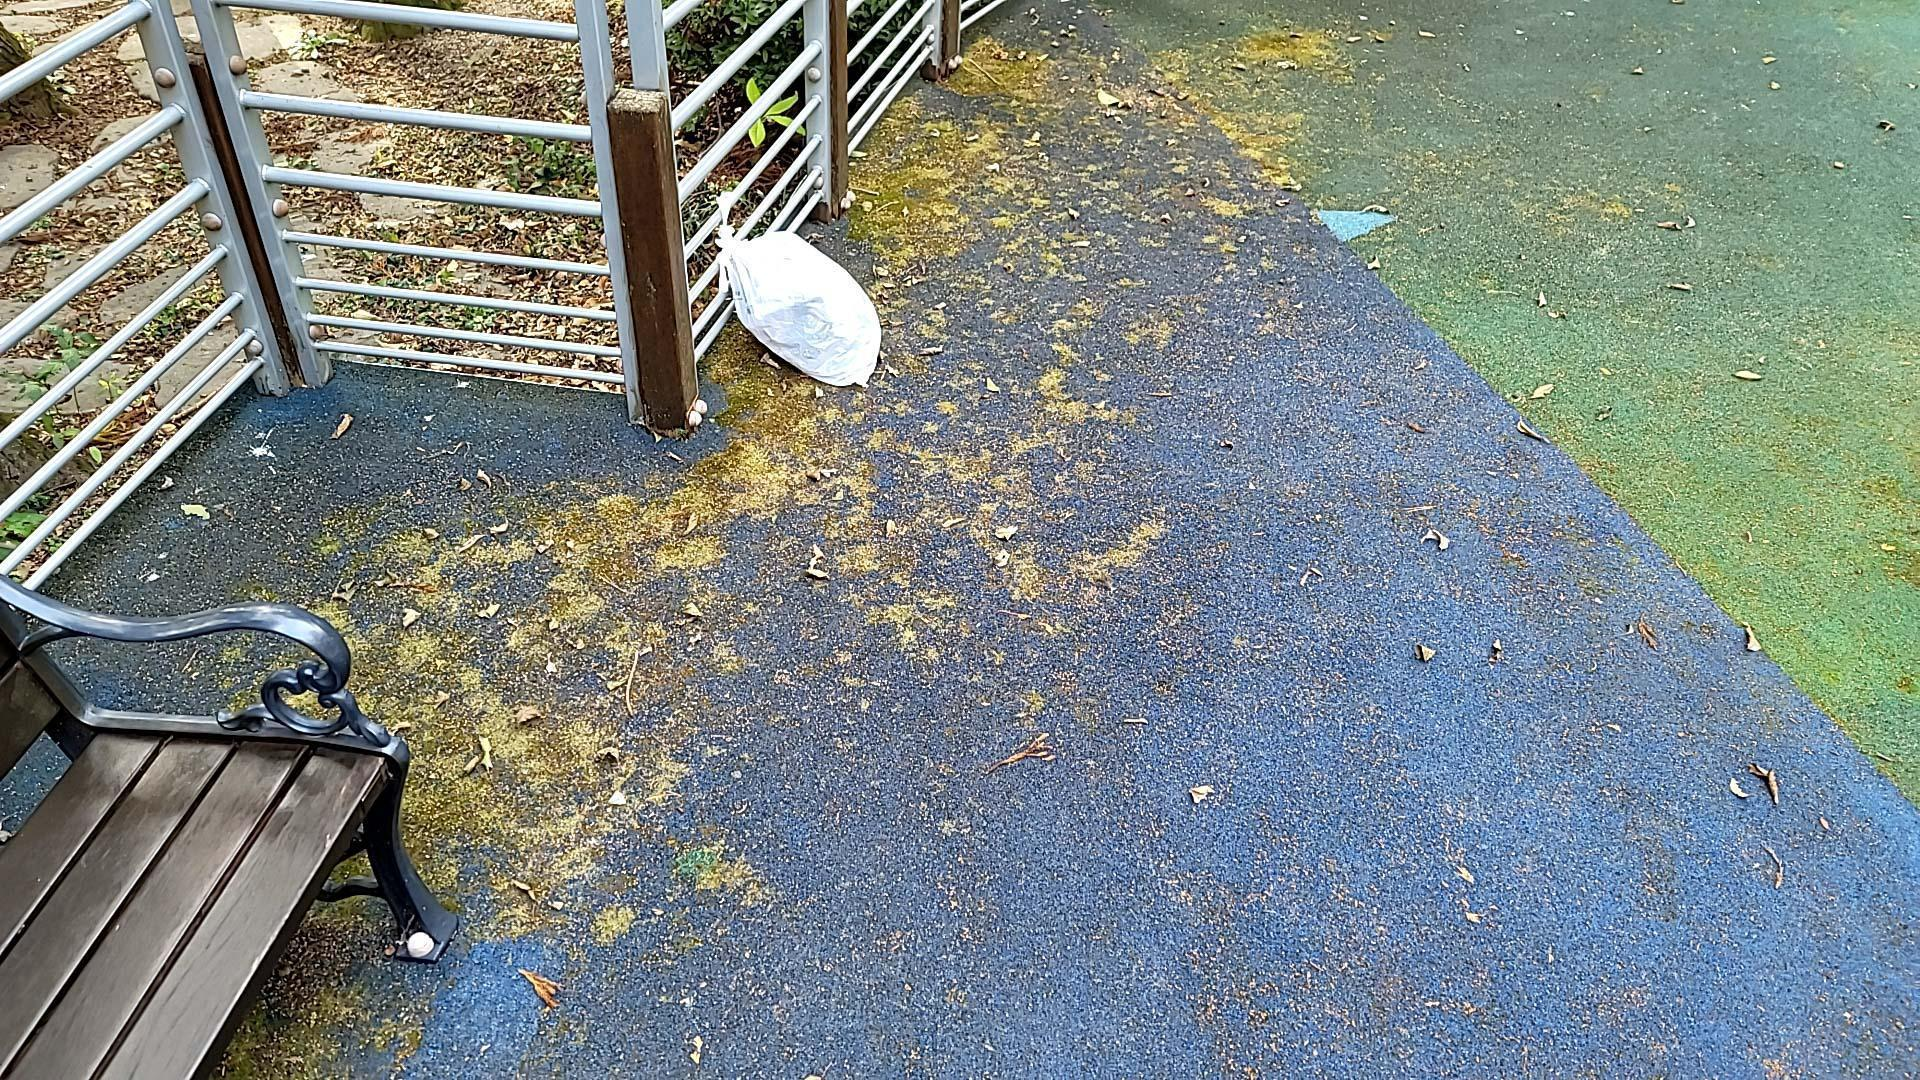white_bag: (704, 183, 895, 398)
